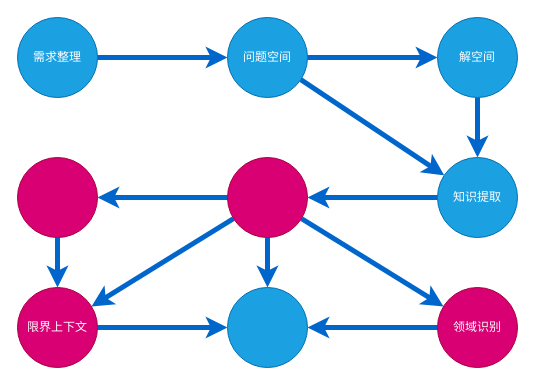
Image size: 535x385. Some labels were removed from this diagram. The centre of each missing label's shape, as x and y in pixels:
"上下文映射图" belongs at point 57,197.
"领域模型" belongs at point 267,327.
"领域特定语言" belongs at point 267,197.
